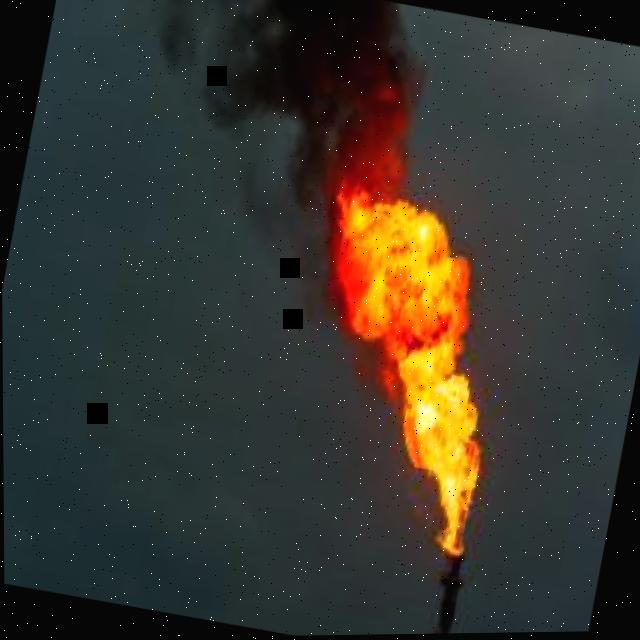fire: (323, 81, 481, 556)
smoke: (151, 0, 428, 404)
